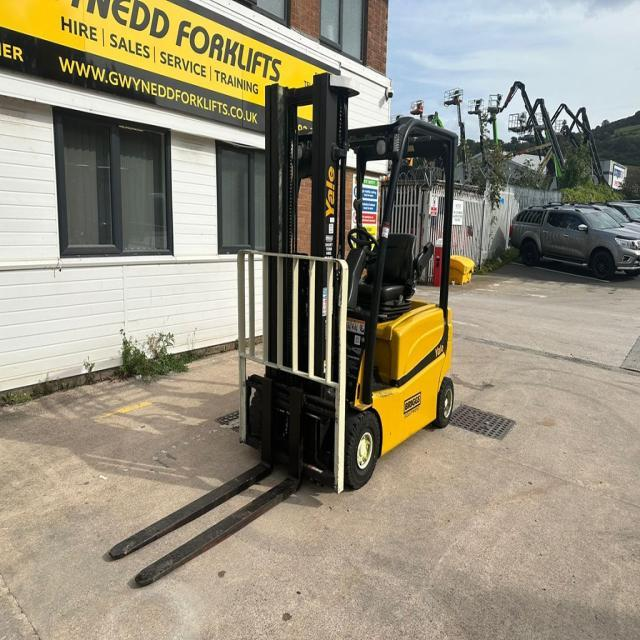forklift: (217, 75, 463, 509)
